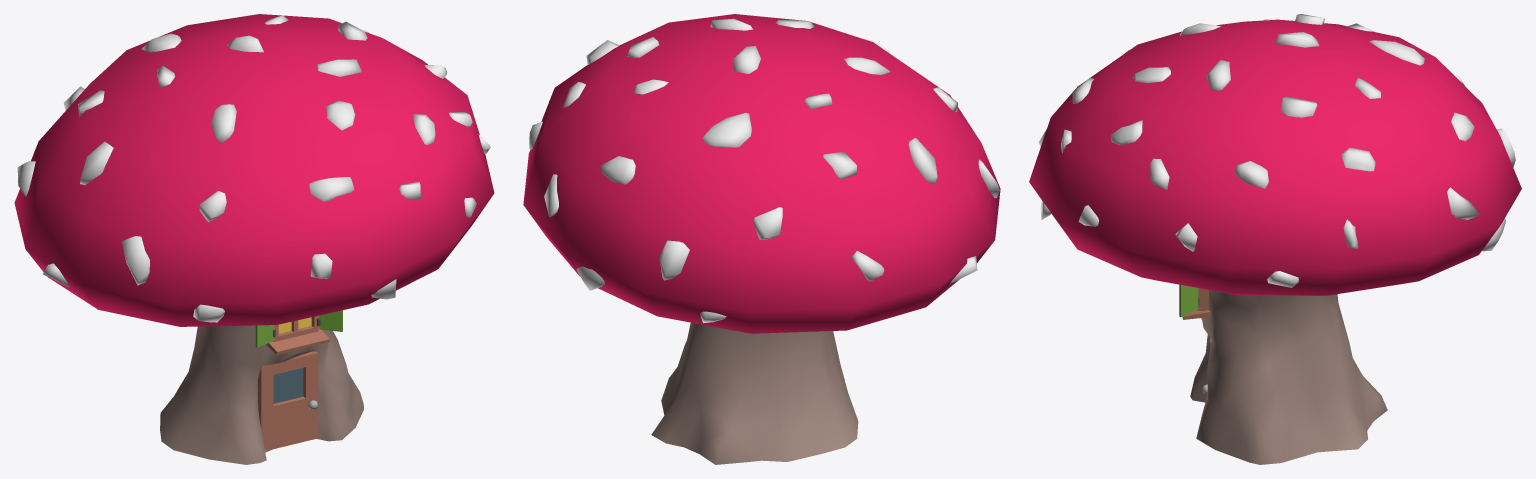
The model's file is house_014.fbx.
The picture shows the model from 3 angles, left to right: view 1: azimuth 30°, elevation 25°; view 2: azimuth 150°, elevation 25°; view 3: azimuth 270°, elevation 25°; orthographic projection.
Parts seen in each view (by area): view 1: house_014; view 2: house_014; view 3: house_014.
Part boxes in pixels (x1,y1,x2,y2): house_014: (14,14,494,464); house_014: (523,14,1000,464); house_014: (1029,14,1521,464).
Size of the model in its own units: 846 by 846 by 727.
2 materials, 2 textured.
